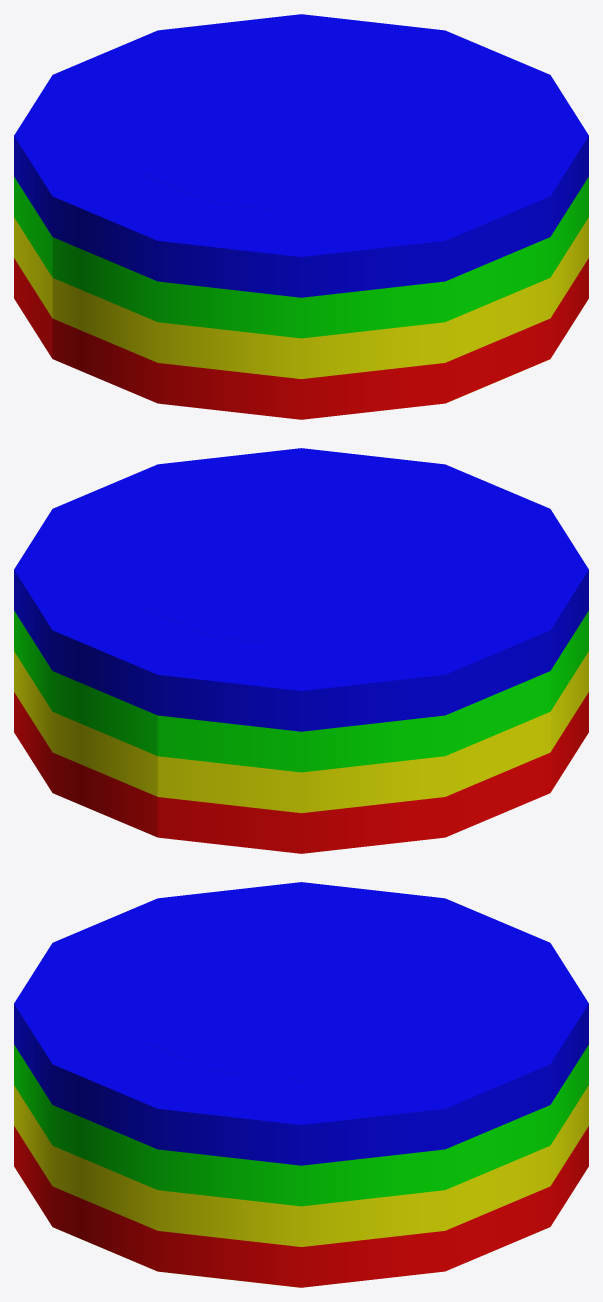
Rendered from CylinderLevel.FBX.
3 renders of one model, top to bottom at view 1: azimuth 30°, elevation 25°; view 2: azimuth 150°, elevation 25°; view 3: azimuth 270°, elevation 25°, orthographic.
Visible parts, largest first — view 1: OuterWalls, InnerCylinder, Floor4; view 2: OuterWalls, Floor4, InnerCylinder; view 3: OuterWalls, InnerCylinder.
Boxes of the visible parts, x1=… form: OuterWalls: x1=14, y1=14, x2=588, y2=419; InnerCylinder: x1=119, y1=58, x2=483, y2=212; Floor4: x1=14, y1=176, x2=52, y2=358; OuterWalls: x1=14, y1=448, x2=588, y2=837; Floor4: x1=157, y1=671, x2=550, y2=853; InnerCylinder: x1=119, y1=492, x2=483, y2=646; OuterWalls: x1=14, y1=882, x2=588, y2=1287; InnerCylinder: x1=119, y1=926, x2=483, y2=1080.
Bounding box in the file's own units: 7877 × 7876 × 2464.
